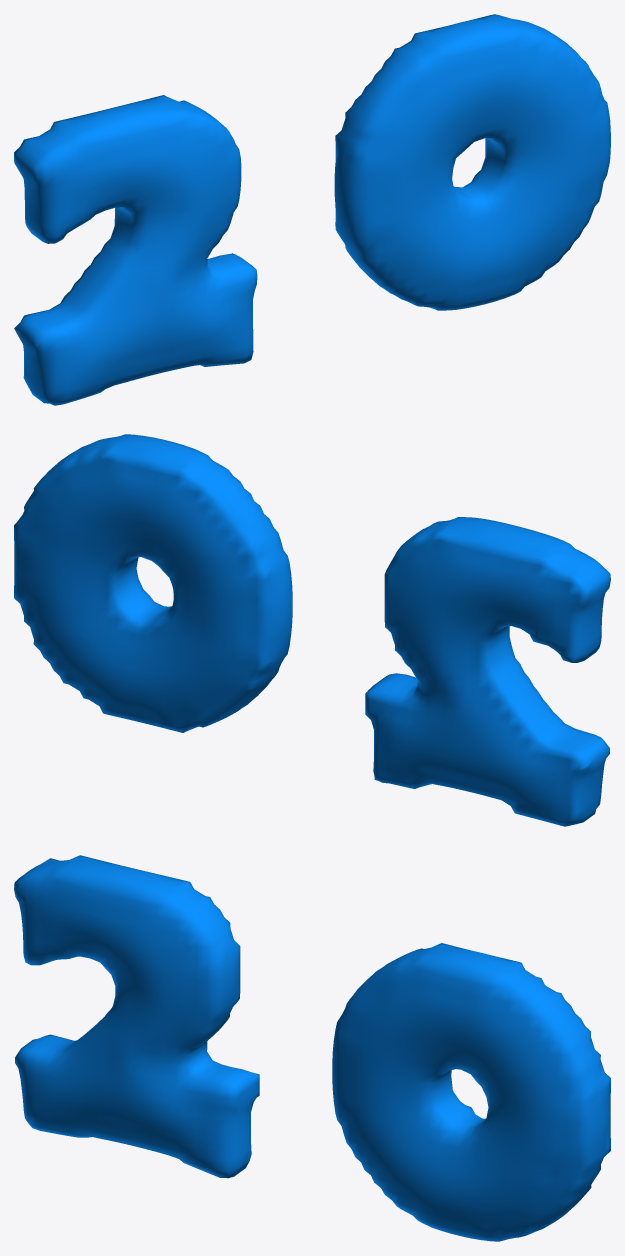
File: balloons2.gltf
3 views of the same model, one above another, from view 1: azimuth 30°, elevation 25°; view 2: azimuth 150°, elevation 25°; view 3: azimuth 330°, elevation 25° (orthographic).
Parts seen in each view (by area): view 1: Text; view 2: Text; view 3: Text.
Boxes of the visible parts, x1,y1,x2,y2 form: Text: (14, 14, 610, 405); Text: (14, 434, 610, 826); Text: (14, 855, 610, 1241).
Size of the model in its own units: 2.19 by 0.9982 by 0.2699.
